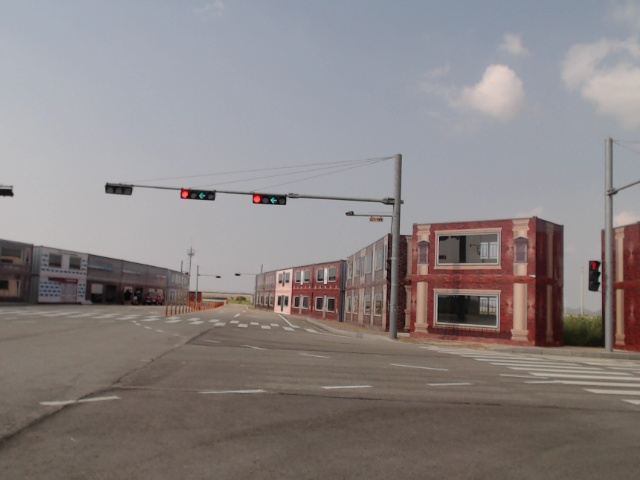left_green_4: (252, 194, 287, 207), (181, 190, 215, 200)
